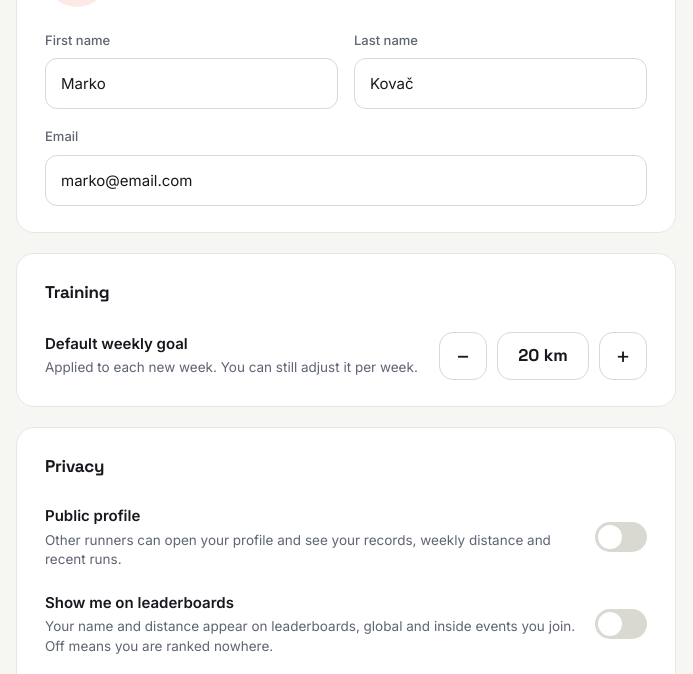
it: Settings profile card (RUN-37) › keeps the failure on screen when the identity write fails (RUN-59)
Replace the text in the field labelled "First name" with "Ana" at (192, 84), box left=45, top=58, right=338, bottom=109
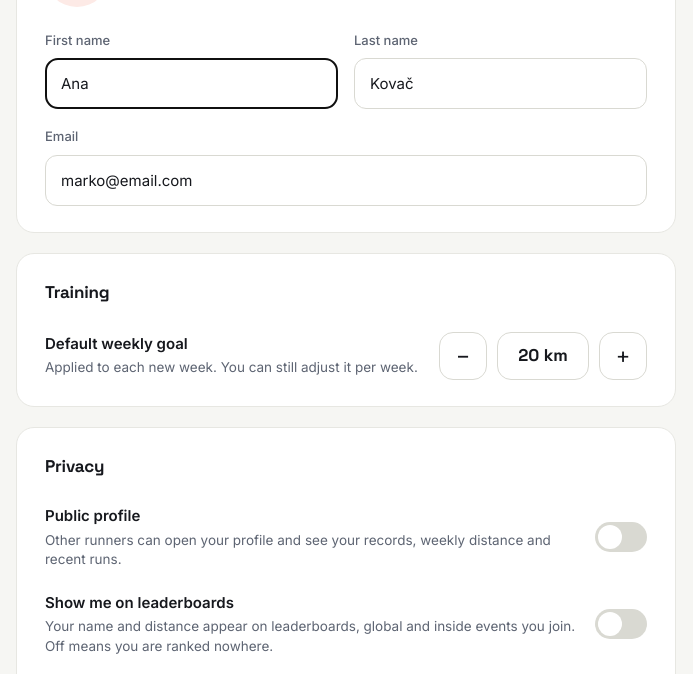
Click the button named "Increase default weekly goal" at (623, 356), box left=599, top=332, right=647, bottom=380
(page scrolled)
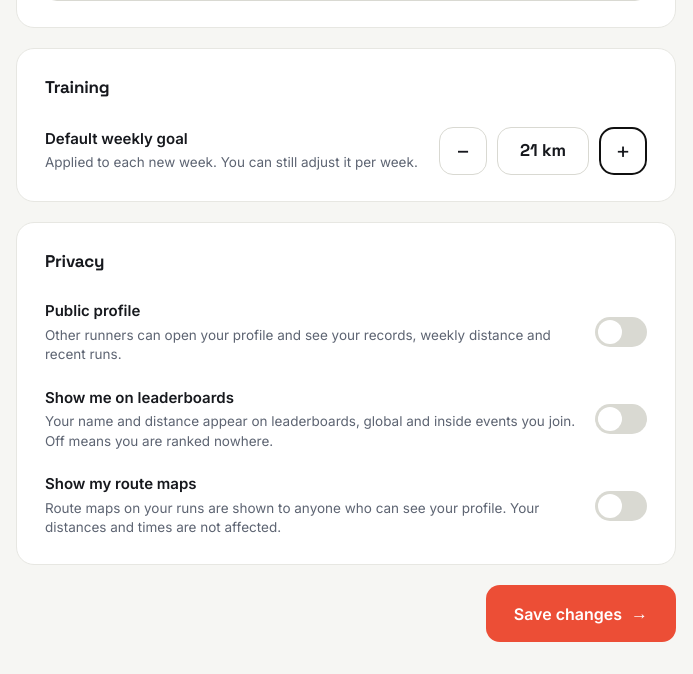
Click the button "Save changes →" at (581, 614), box left=486, top=585, right=676, bottom=642
(page scrolled)
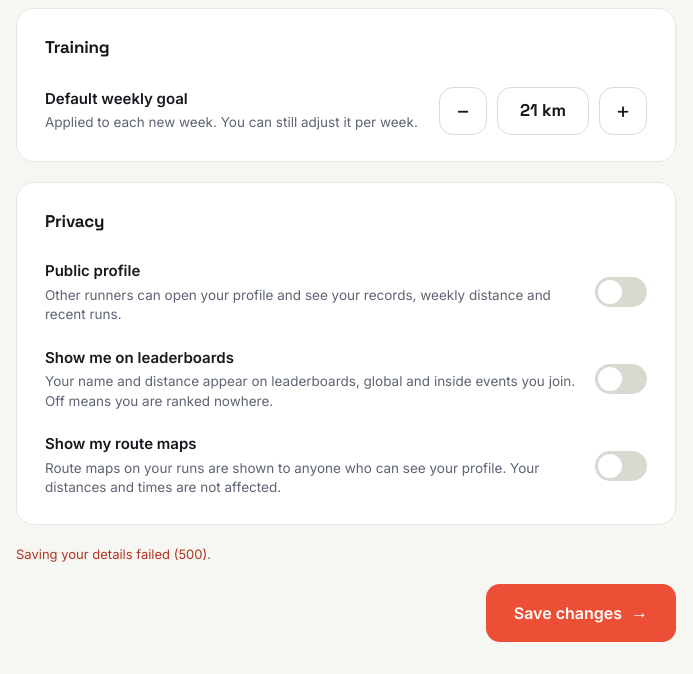
Expected: the message reads "Saving your details failed (500).", left=16, top=546, right=211, bottom=562
